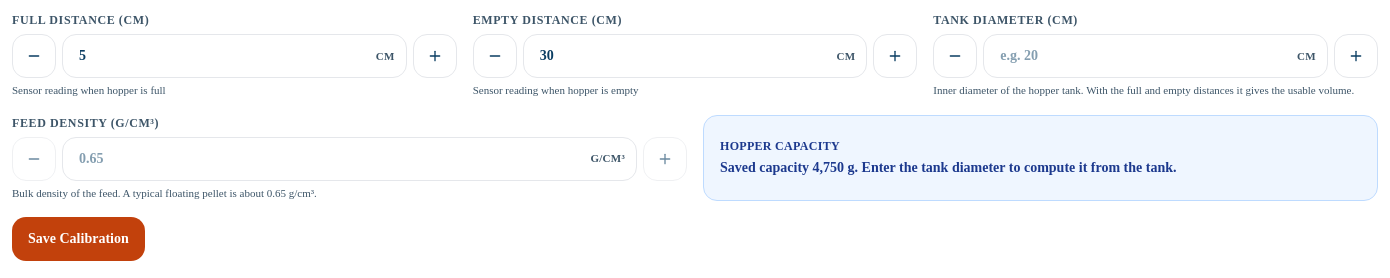
hopper calibration form › computes the capacity from the tank diameter (issue #415)
Check: the element with test id "hopper-capacity-summary" shows "4,750 g", box [720, 160, 1176, 175]
Type "20" into the number field labelled "Tank Diameter (cm)" at (1156, 56), box [983, 34, 1328, 78]
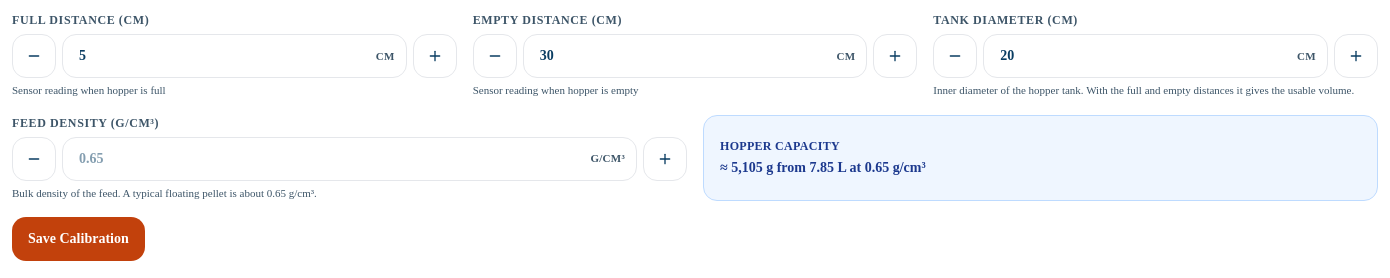
Check: the element with test id "hopper-capacity-summary" shows "5,105 g", box [720, 160, 926, 175]
Check: the element with test id "hopper-capacity-summary" shows "7.85 L", box [720, 160, 926, 175]
Check: the element with test id "hopper-capacity-summary" shows "0.65 g/cm³", box [720, 160, 926, 175]
